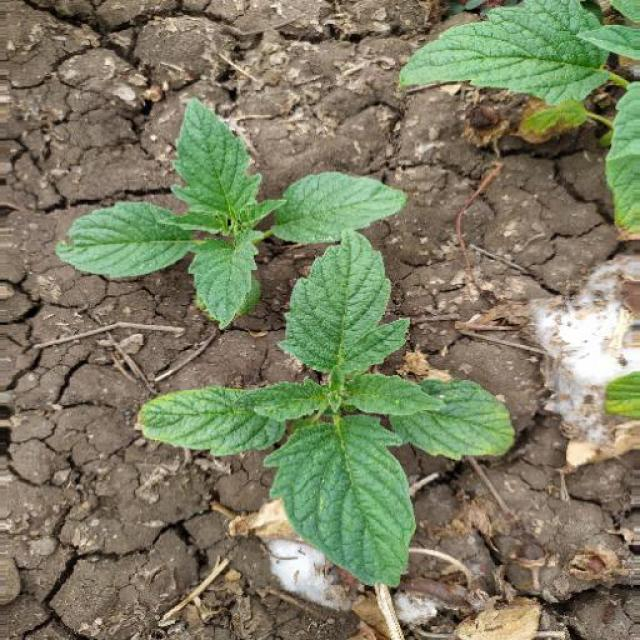crop: (136, 231, 522, 581), (58, 75, 408, 323)
